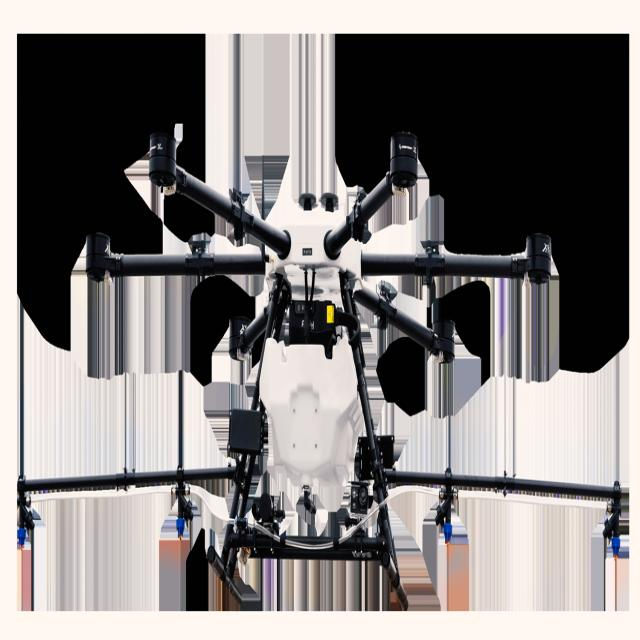drone: (30, 76, 640, 614)
